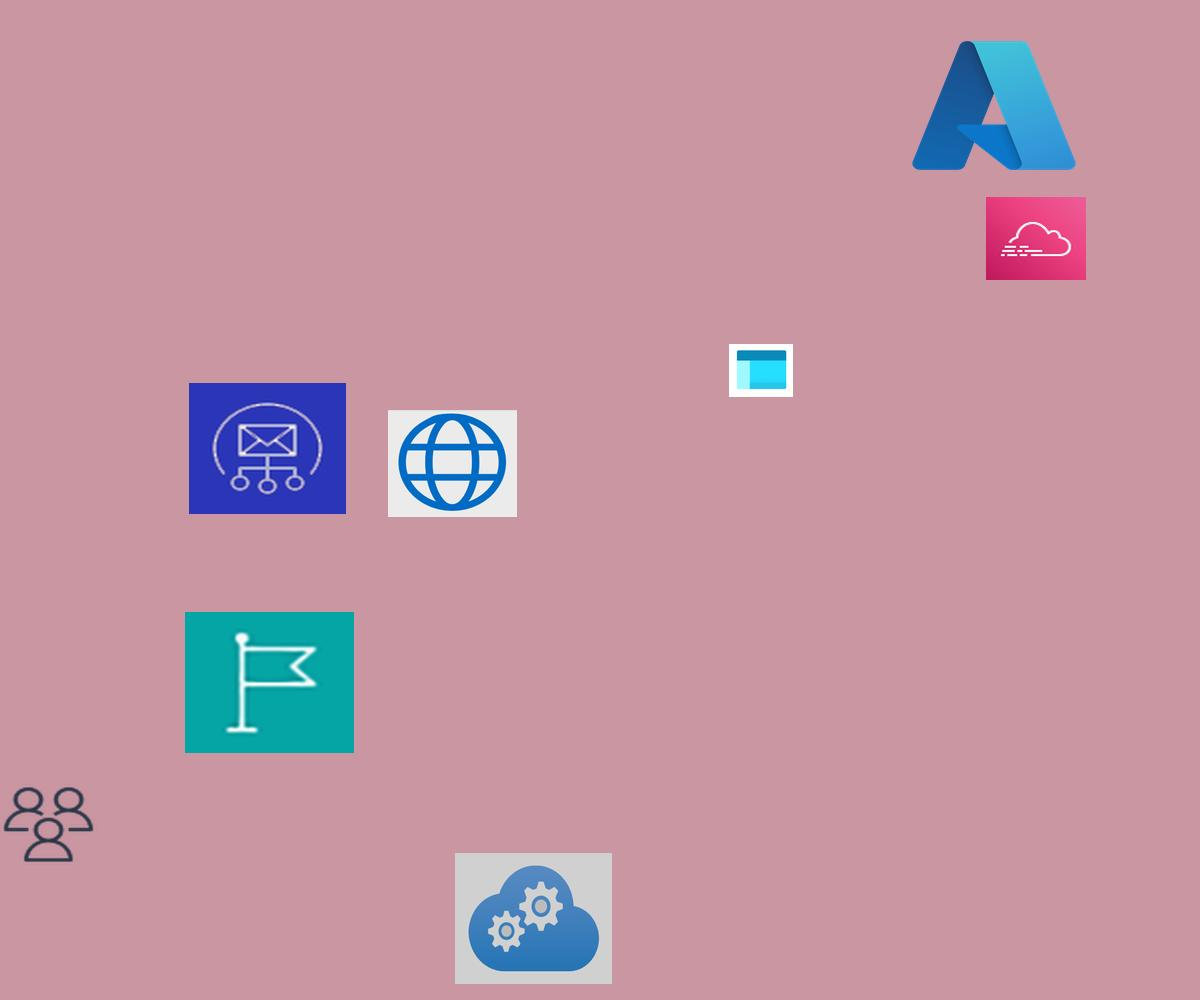AWS-CloudTrail: (986, 197, 1086, 280)
AWS-Region: (185, 612, 354, 753)
AWS-Res_Users: (0, 784, 97, 865)
AWS-Simple-Email-Service: (189, 383, 346, 514)
Azure_cloud_services: (455, 853, 612, 984)
Azure_http: (388, 410, 517, 517)
Azure_management-portal: (729, 344, 793, 397)
Azure_services: (905, 31, 1083, 180)
